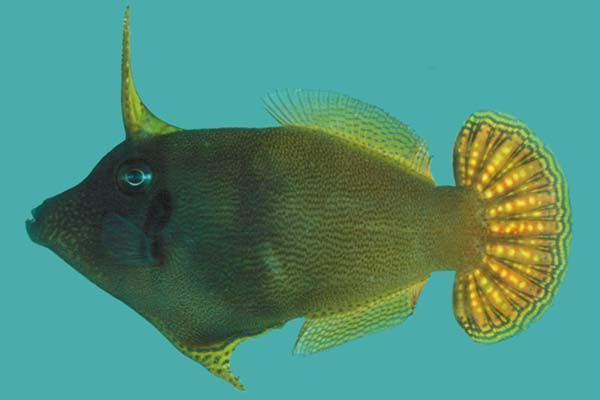fish: (25, 5, 573, 392)
